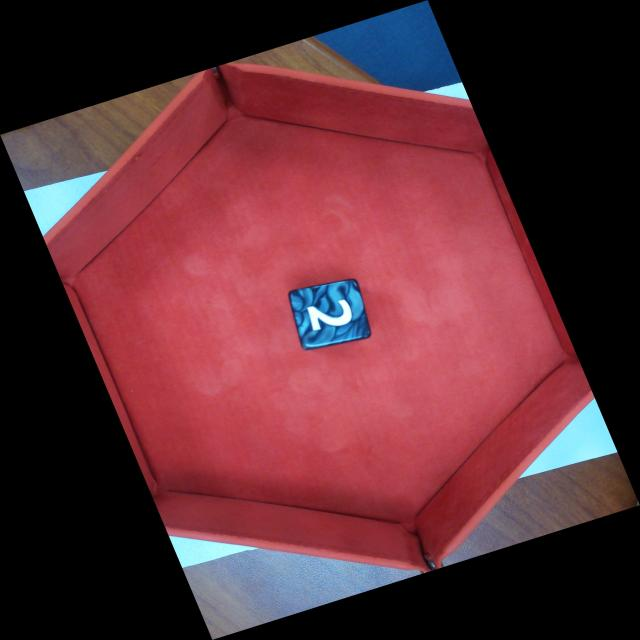dice: (289, 278, 372, 351)
